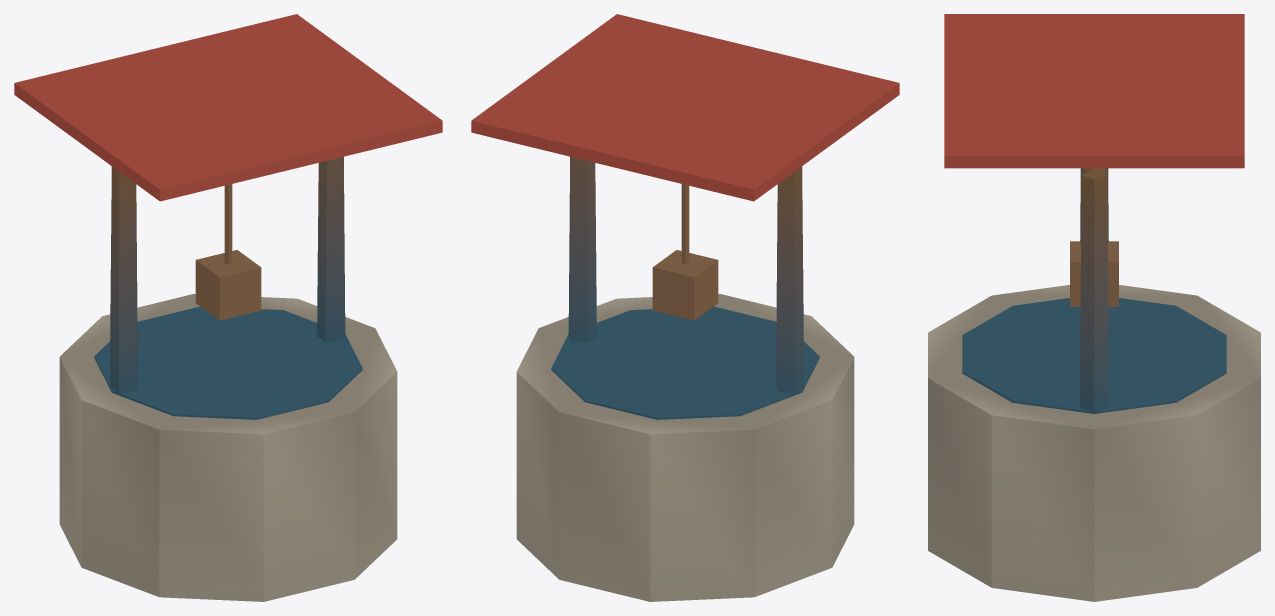
The model's file is well_0.glb.
3 renders of one model, left to right at view 1: azimuth 30°, elevation 25°; view 2: azimuth 150°, elevation 25°; view 3: azimuth 270°, elevation 25°, orthographic. The views are drawn at different scales.
Parts seen in each view (by area): view 1: well_0; view 2: well_0; view 3: well_0.
Part boxes in pixels (x1=…): well_0: x1=14, y1=14, x2=442, y2=601; well_0: x1=471, y1=14, x2=899, y2=601; well_0: x1=928, y1=14, x2=1260, y2=601.
Size of the model in its own units: 1.56 by 2.18 by 1.48.
